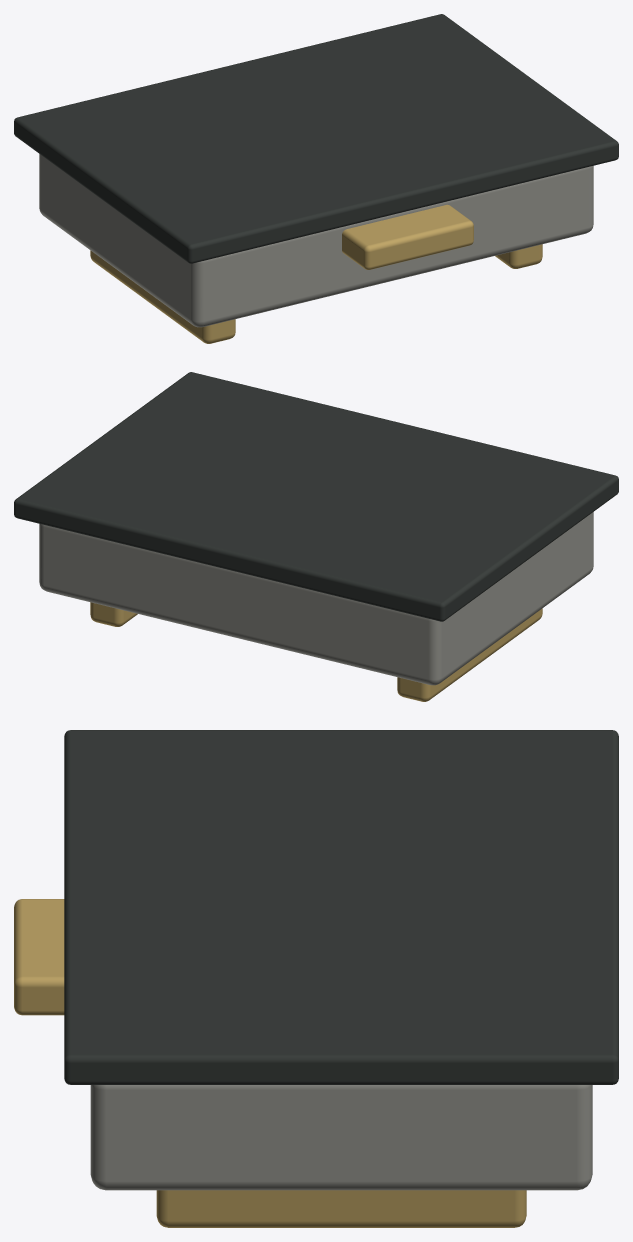
File: fantasy-cartographers-map-printing-guild-ink-warming-s-e434ecd9__32252.glb
The picture shows the model from 3 angles, top to bottom: view 1: azimuth 30°, elevation 25°; view 2: azimuth 150°, elevation 25°; view 3: azimuth 270°, elevation 25°; orthographic projection. The views are drawn at different scales.
Visible parts, largest first — view 1: ink-warming-slab; view 2: ink-warming-slab; view 3: ink-warming-slab.
Boxes of the visible parts, bbox=[...] form: ink-warming-slab: bbox=[14, 14, 618, 343]; ink-warming-slab: bbox=[14, 372, 618, 701]; ink-warming-slab: bbox=[14, 730, 618, 1227].
Size of the model in its own units: 0.59 by 0.175 by 0.458.
